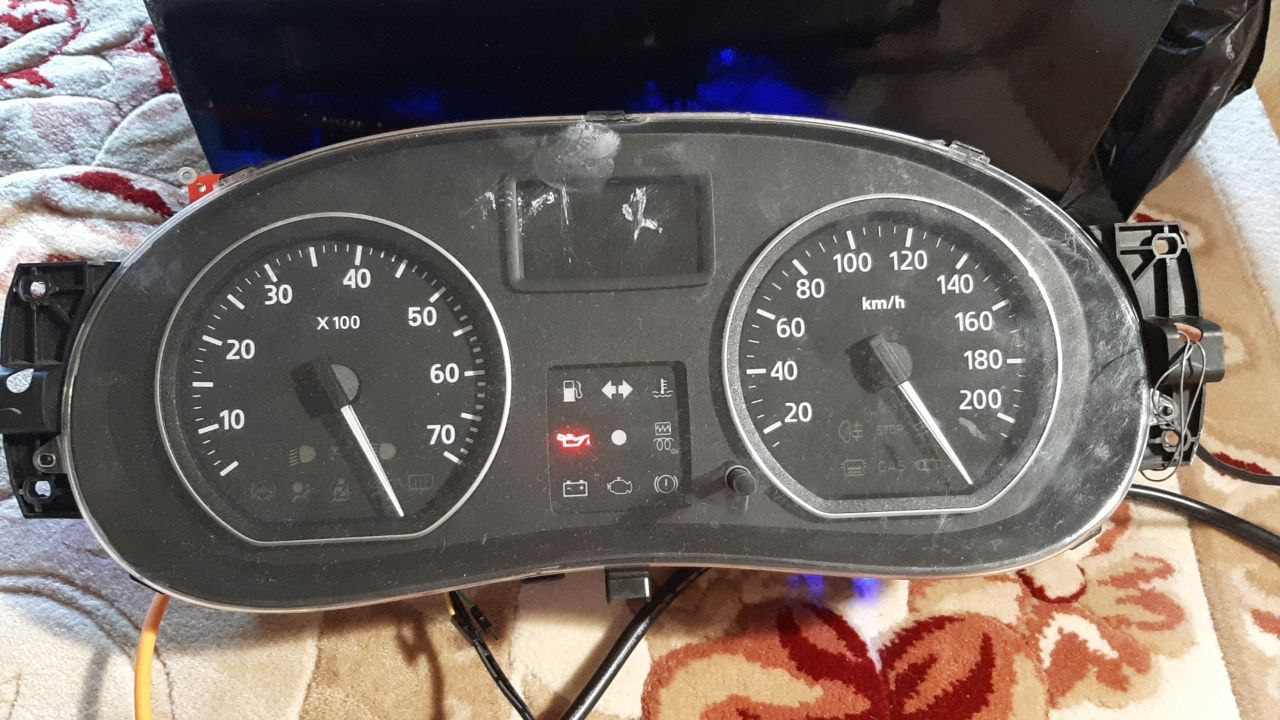oil: (551, 424, 596, 455)
